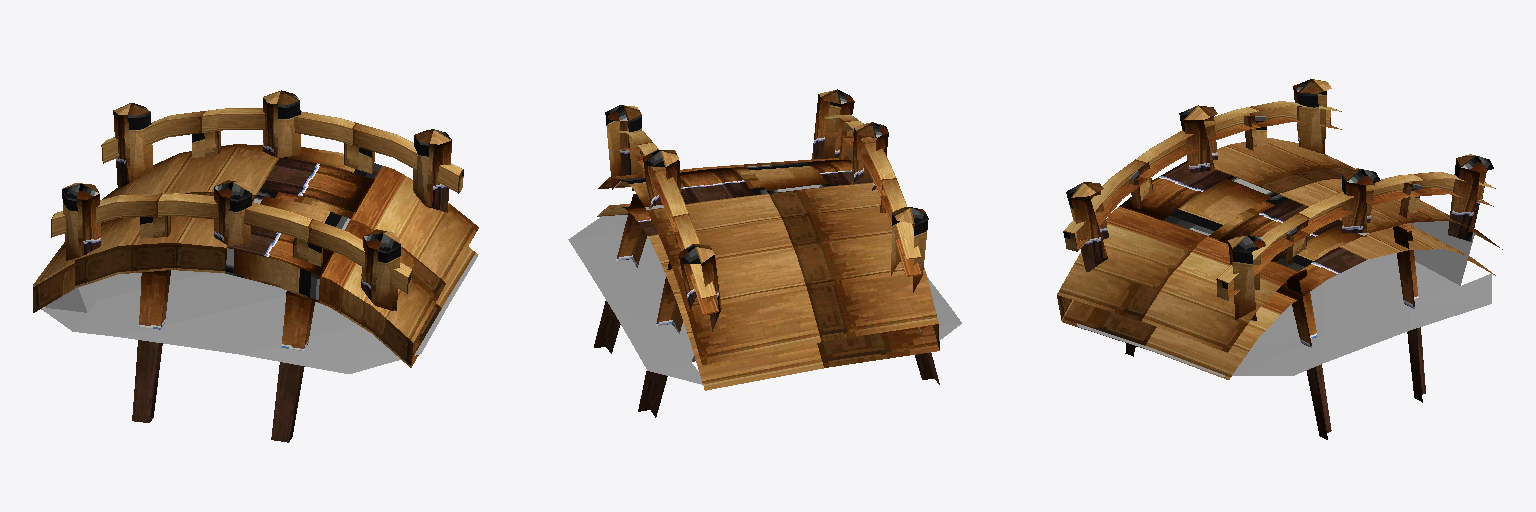
3 views of the same model, side by side, from view 1: azimuth 30°, elevation 25°; view 2: azimuth 150°, elevation 25°; view 3: azimuth 270°, elevation 25° (orthographic).
Visible parts, largest first — view 1: vsn_mesh_0__mesh_0_.007, vsn_mesh_1__mesh_1_.006; view 2: vsn_mesh_0__mesh_0_.007, vsn_mesh_1__mesh_1_.006; view 3: vsn_mesh_0__mesh_0_.007, vsn_mesh_1__mesh_1_.006.
Part boxes in pixels (x1,y1,x2,y2): vsn_mesh_0__mesh_0_.007: (33,90,478,442); vsn_mesh_1__mesh_1_.006: (41,255,476,373); vsn_mesh_0__mesh_0_.007: (594,89,939,417); vsn_mesh_1__mesh_1_.006: (568,215,961,386); vsn_mesh_0__mesh_0_.007: (1057,79,1502,439); vsn_mesh_1__mesh_1_.006: (1077,221,1491,376).
Bounding box in the file's own units: 162 × 93.85 × 159.
Materials: 2 (1 with a texture image).